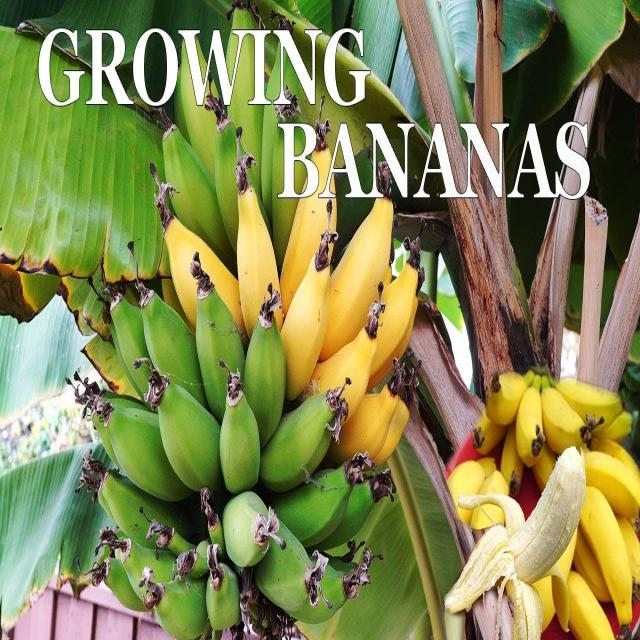banana: (152, 2, 401, 640), (465, 447, 601, 615), (495, 360, 640, 471)
